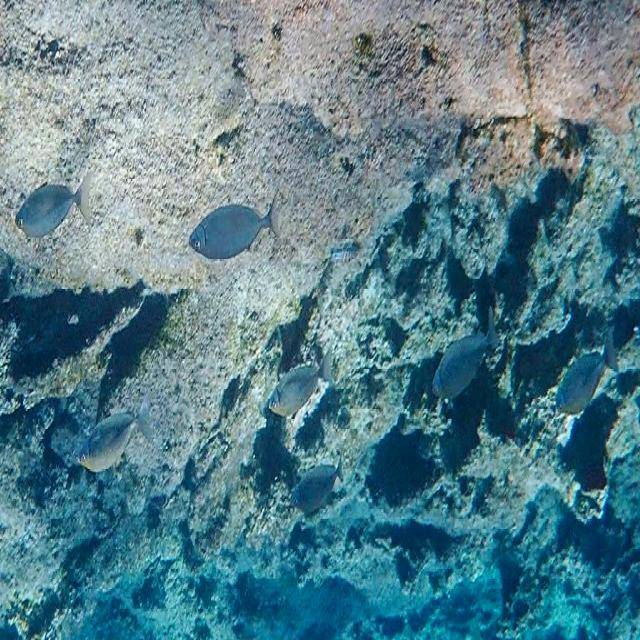Sokar Baligi: (185, 182, 284, 279), (7, 156, 96, 252)
